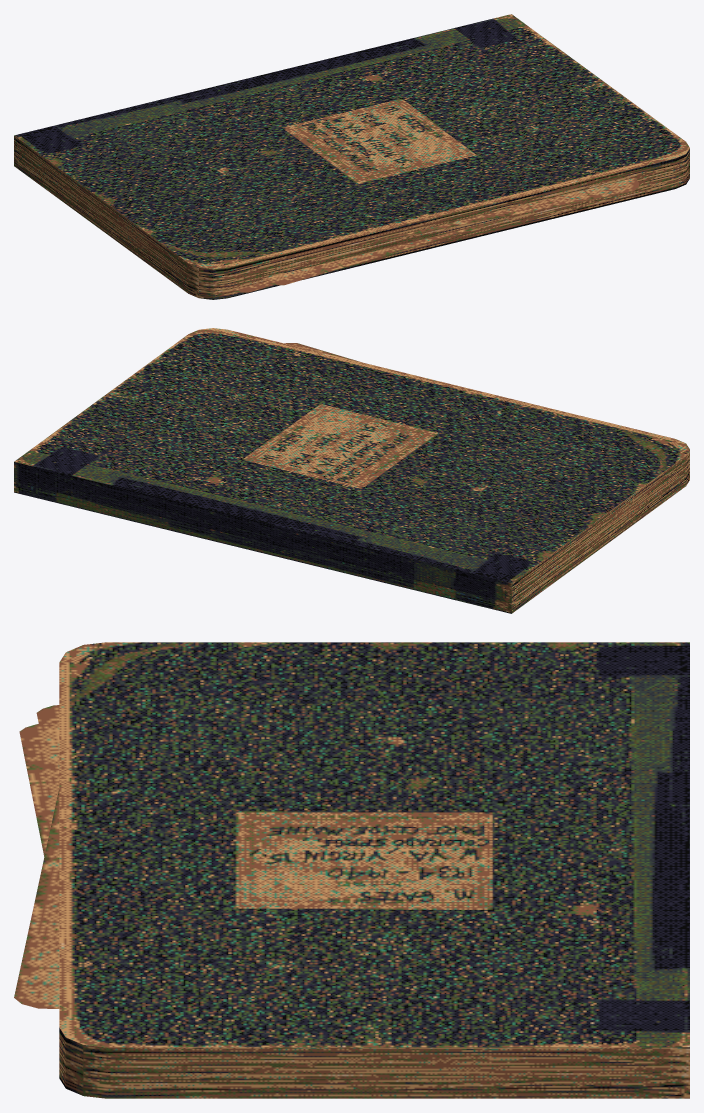
Rendered from notebook05.fbx.
3 renders of one model, top to bottom at view 1: azimuth 30°, elevation 25°; view 2: azimuth 150°, elevation 25°; view 3: azimuth 270°, elevation 25°, orthographic. The views are drawn at different scales.
Parts seen in each view (by area): view 1: polySurface85; view 2: polySurface85; view 3: polySurface85.
Part boxes in pixels (left/top/right/bottom): polySurface85: left=14, top=14, right=689, bottom=299; polySurface85: left=14, top=328, right=689, bottom=613; polySurface85: left=14, top=642, right=689, bottom=1098.
Bounding box in the file's own units: 4.06 × 0.239 × 2.86.
Materials: 1 (1 with a texture image).
